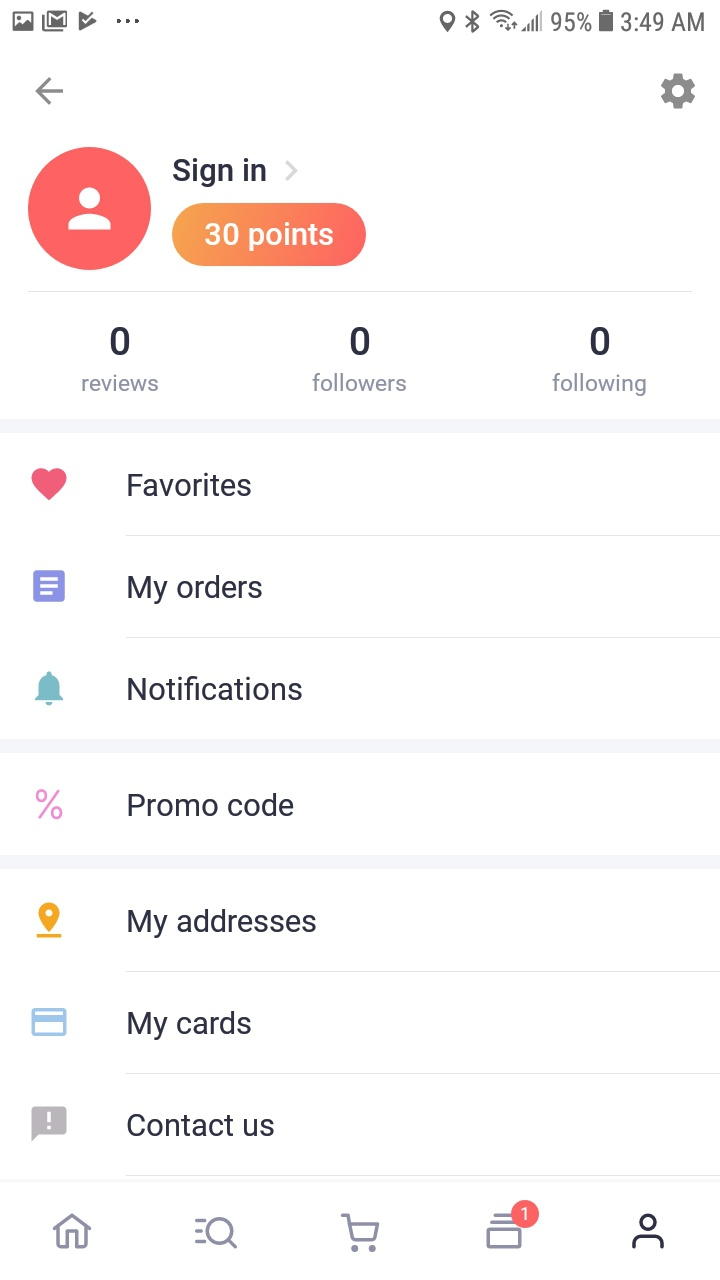Icon: (28, 147, 152, 271), (486, 1200, 540, 1250), (340, 1212, 380, 1253), (195, 1217, 239, 1250), (54, 1212, 93, 1249), (31, 1105, 68, 1142), (661, 73, 696, 110), (632, 1213, 665, 1250), (32, 468, 68, 501), (33, 570, 66, 603), (31, 1008, 68, 1037), (36, 671, 65, 707), (36, 902, 63, 939), (36, 77, 65, 106), (285, 160, 299, 182)
Image: (36, 789, 64, 821)
Text: (128, 909, 317, 939), (128, 675, 303, 701), (128, 574, 263, 605), (128, 792, 294, 817), (128, 1010, 252, 1041), (128, 1113, 275, 1137), (128, 472, 252, 497), (173, 158, 267, 188), (552, 372, 647, 397), (312, 373, 407, 393), (82, 373, 159, 392), (110, 326, 130, 356), (350, 327, 370, 356), (590, 327, 610, 356)
TextButton: (172, 203, 368, 267)
UpperTaskBar: (1, 1, 720, 35)
